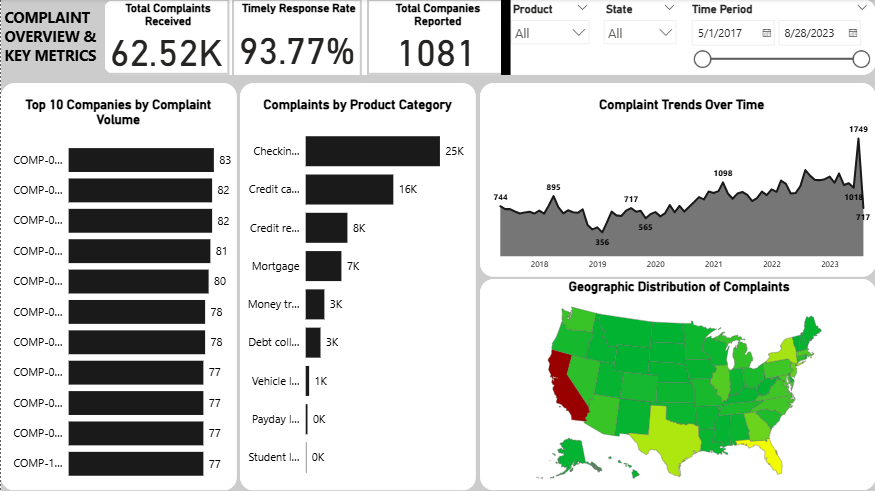

The dashboard page shown, as its layout file describes it:
{"tool":"powerbi","page":{"name":"Overview & Key Insights","canvas":[1280,720],"ordinal":0},"visuals":[{"type":"shape","box":[0,0,1280,720.6],"z":0},{"type":"shape","box":[0,123,345.2,596.4],"z":1000,"group":"g1"},{"type":"shape","box":[148.7,0,1131.3,111.1],"z":1000},{"type":"shape","box":[350.3,123,345.2,596.4],"z":2000,"group":"g1"},{"type":"shape","box":[700.7,123,579.3,283.7],"z":3000,"group":"g1"},{"type":"shape","box":[700.7,410.1,579.3,309.3],"z":3500,"group":"g1"},{"type":"slicer","fields":{"Values":["Complaints (Fact).Product"]},"box":[736.1,0,134.6,111.2],"z":4000},{"type":"slicer","fields":{"Values":["Complaints (Fact).Date submitted"]},"box":[998,0,282,164.1],"z":5000},{"type":"slicer","fields":{"Values":["Complaints (Fact).State Names"]},"box":[872.2,0,125.9,111.2],"z":6000},{"type":"group","id":"g1","title":"Group 1","box":[0,123,1280,596.4],"z":7000},{"type":"card","title":"Total Complaints Received","fields":{"Values":["CountNonNull(Complaints (Fact).Complaint ID)"]},"box":[148.7,0,184.6,111.1],"z":8000},{"type":"card","title":"Total Companies Reported","fields":{"Values":["CountNonNull(Company.Company_ID_1081)"]},"box":[534.9,0,201.7,111.1],"z":9000},{"type":"areaChart","title":"Complaint Trends Over Time","fields":{"Y":["CountNonNull(Complaints (Fact).Complaint ID)"],"Category":["Complaints (Fact).Date submitted.Variation.Date Hierarchy.Year","Complaints (Fact).Date submitted.Variation.Date Hierarchy.Quarter","Complaints (Fact).Date submitted.Variation.Date Hierarchy.Month"]},"box":[712.6,143.6,567.4,263.2],"z":10000},{"type":"clusteredBarChart","title":"Complaints by Product Category","fields":{"Y":["CountNonNull(Complaints (Fact).Complaint ID)"],"Category":["Complaints (Fact).Product"]},"box":[344.4,142.8,356.1,577.8],"z":11000},{"type":"shapeMap","title":"Geographic Distribution of Complaints","fields":{"Category":["Complaints (Fact).State Names"],"Value":["CountNonNull(Complaints (Fact).Complaint ID)"]},"box":[712.2,409.9,559.4,310.8],"z":12000},{"type":"clusteredBarChart","title":"Top 10 Companies by Complaint Volume","fields":{"Category":["Company.Company_ID_1081"],"Y":["CountNonNull(Complaints (Fact).Complaint ID)"]},"box":[0,143.6,343.5,577.6],"z":13000},{"type":"card","title":"Timely Response Rate","fields":{"Values":["Complaints (Fact).% Timely Responses1"]},"box":[338.4,0,189.7,123],"z":14000},{"type":"shape","box":[731.4,0,13.7,111.1],"z":15000},{"type":"textbox","box":[0,6.8,148.7,111.1],"z":16000}]}

Visuals, with their boxes in screenshot pixels (x1, y1, x2, y2), scaled from the page's 1280x720 canvas onto the 875x491 screenshot:
shape: x1=0, y1=0, x2=874, y2=490
shape: x1=0, y1=84, x2=236, y2=490
shape: x1=102, y1=0, x2=874, y2=76
shape: x1=239, y1=84, x2=475, y2=490
shape: x1=479, y1=84, x2=874, y2=277
shape: x1=479, y1=280, x2=874, y2=490
slicer - Complaints (Fact).Product: x1=503, y1=0, x2=595, y2=76
slicer - Complaints (Fact).Date submitted: x1=682, y1=0, x2=874, y2=112
slicer - Complaints (Fact).State Names: x1=596, y1=0, x2=682, y2=76
"Group 1" group: x1=0, y1=84, x2=874, y2=490
"Total Complaints Received" card: x1=102, y1=0, x2=228, y2=76
"Total Companies Reported" card: x1=366, y1=0, x2=504, y2=76
"Complaint Trends Over Time" areaChart: x1=487, y1=98, x2=874, y2=277
"Complaints by Product Category" clusteredBarChart: x1=235, y1=97, x2=479, y2=490
"Geographic Distribution of Complaints" shapeMap: x1=487, y1=280, x2=869, y2=490
"Top 10 Companies by Complaint Volume" clusteredBarChart: x1=0, y1=98, x2=235, y2=490
"Timely Response Rate" card: x1=231, y1=0, x2=361, y2=84
shape: x1=500, y1=0, x2=509, y2=76
textbox: x1=0, y1=5, x2=102, y2=80
